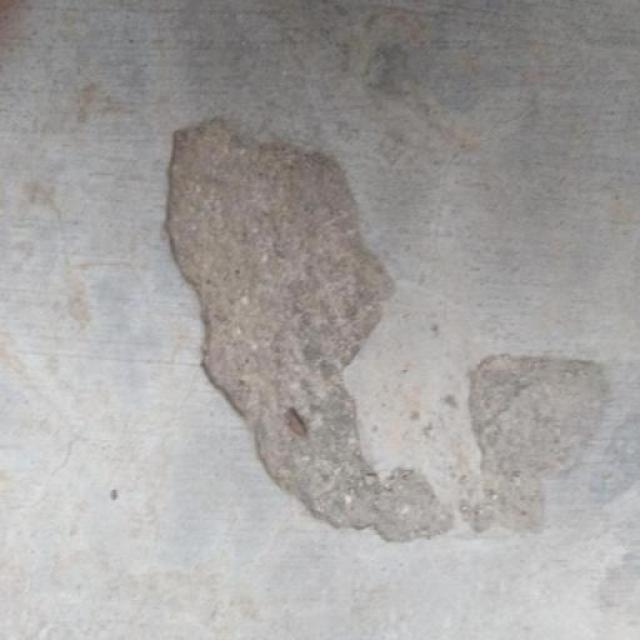D10: (164, 116, 451, 544), (441, 352, 608, 535)
